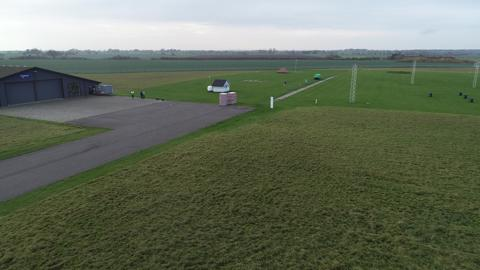RockwoolPallet: (228, 90, 239, 104)
